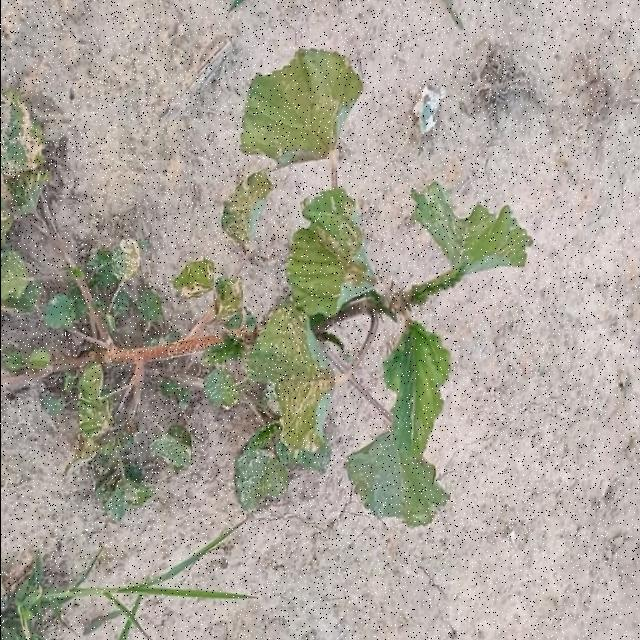weed: (0, 48, 531, 527), (0, 95, 45, 307)
